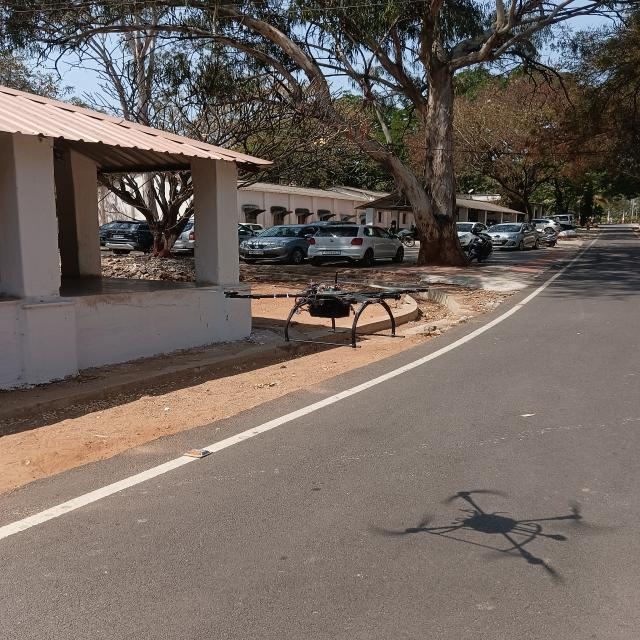drone: (190, 256, 467, 365)
